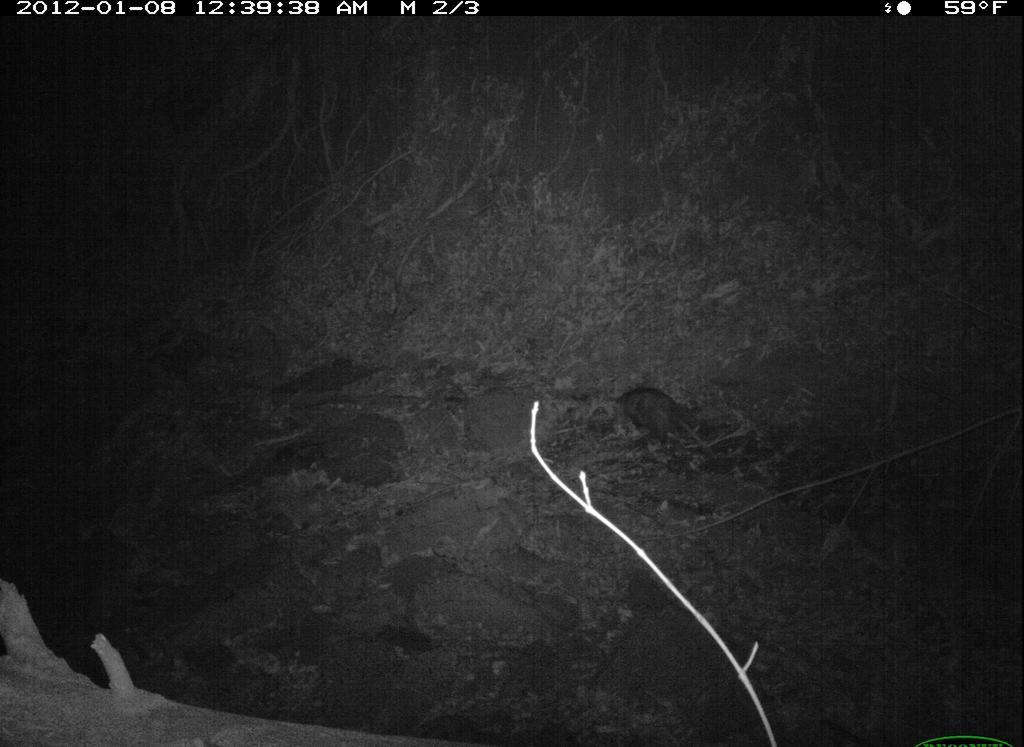opossum: (612, 382, 721, 463)
